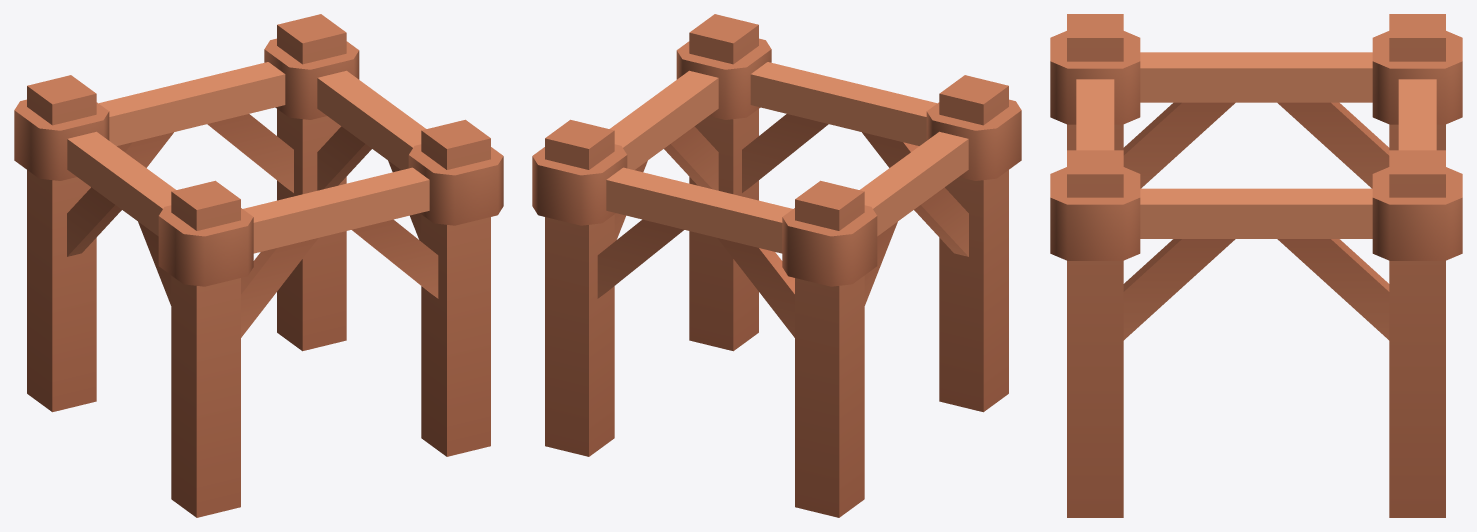
The picture shows the model from 3 angles, left to right: view 1: azimuth 30°, elevation 25°; view 2: azimuth 150°, elevation 25°; view 3: azimuth 270°, elevation 25°; orthographic projection. The views are drawn at different scales.
Visible parts, largest first — view 1: wood-structure; view 2: wood-structure; view 3: wood-structure.
Boxes of the visible parts, x1=… form: wood-structure: x1=14, y1=14, x2=503, y2=517; wood-structure: x1=532, y1=14, x2=1021, y2=517; wood-structure: x1=1050, y1=14, x2=1462, y2=517.
Size of the model in its own units: 1.09 by 1 by 1.09.
Materials: 1 (1 with a texture image).
